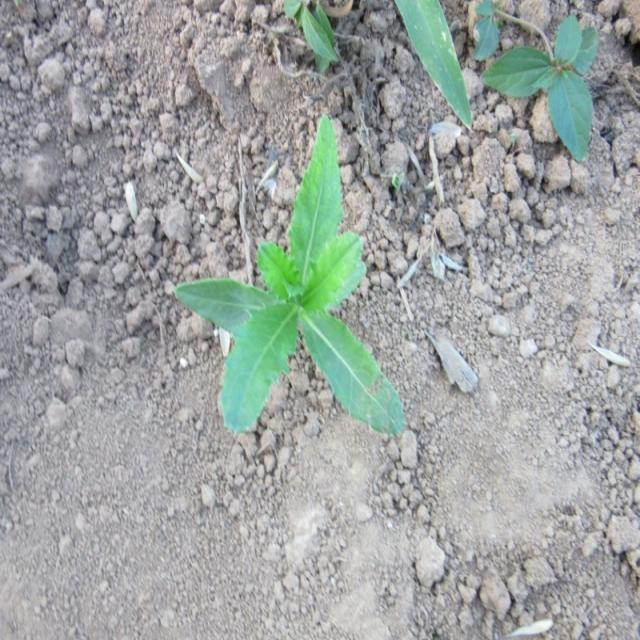cs: (171, 114, 408, 445)
